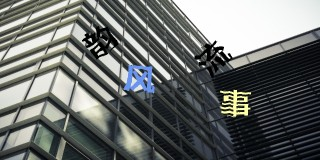流: (194, 38, 232, 76), (218, 89, 252, 119)
韵: (81, 25, 118, 59)
风: (123, 62, 155, 96)
